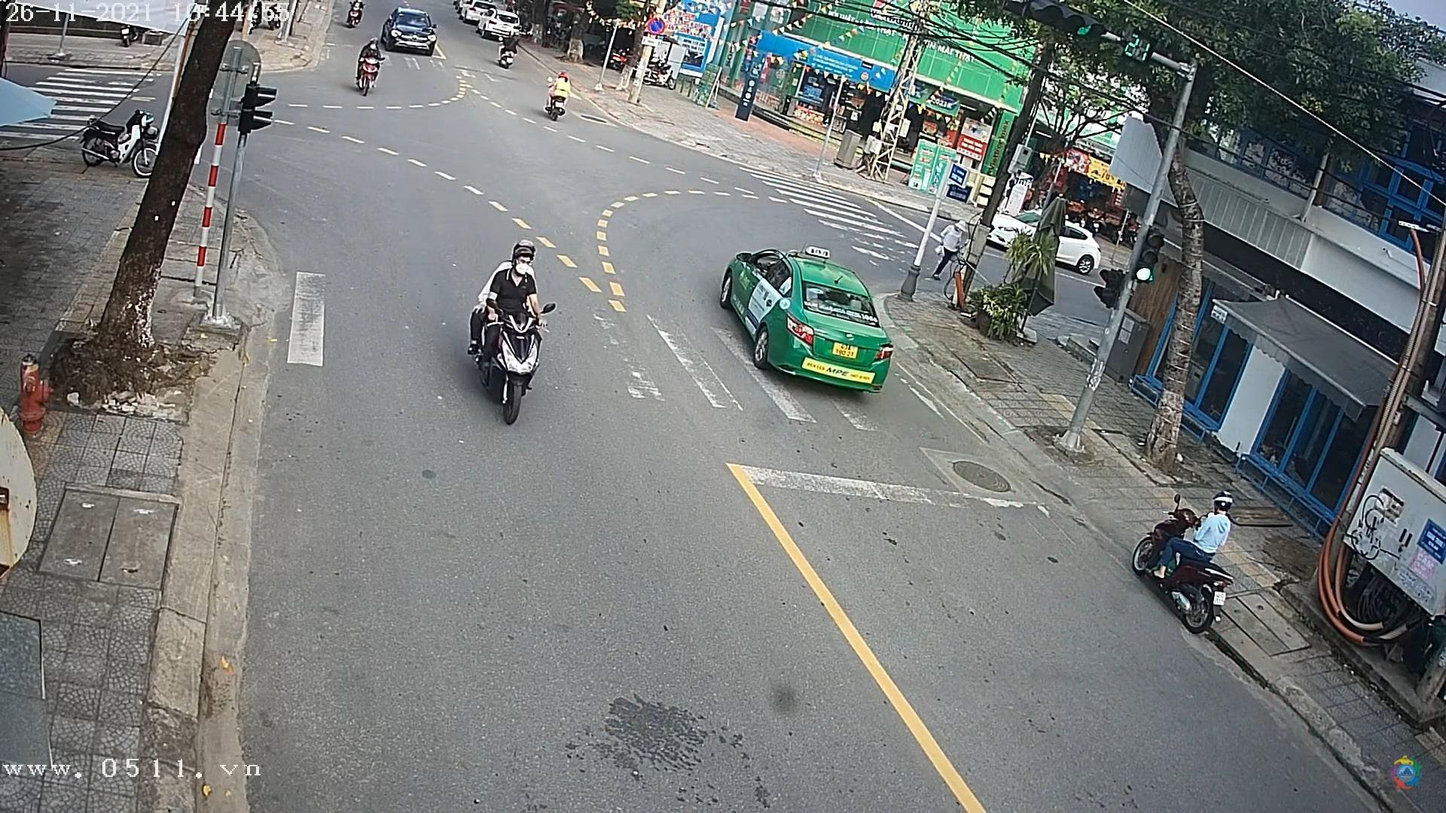car: (716, 251, 903, 392), (379, 0, 439, 54)
motorbike: (1134, 498, 1232, 632), (469, 285, 552, 426), (356, 51, 383, 101), (545, 81, 573, 122)
